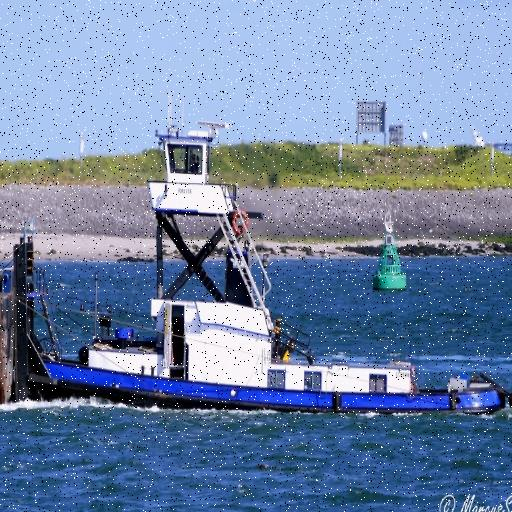tugboat: (14, 117, 512, 423)
